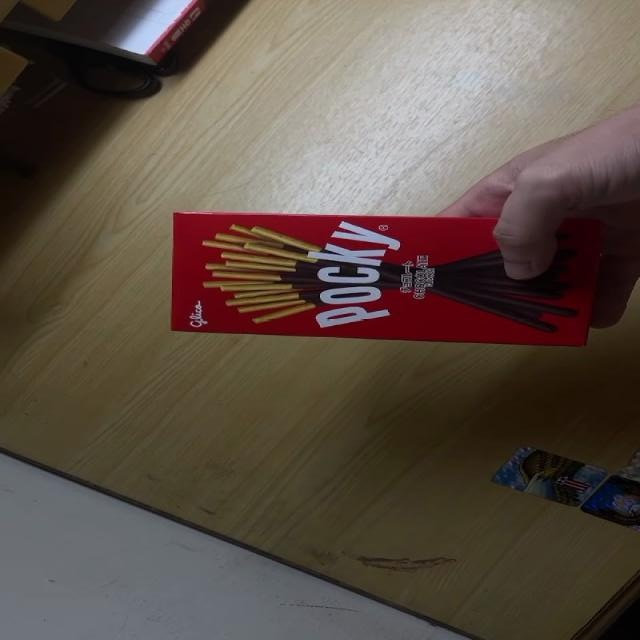Pocky: (169, 211, 606, 348)
